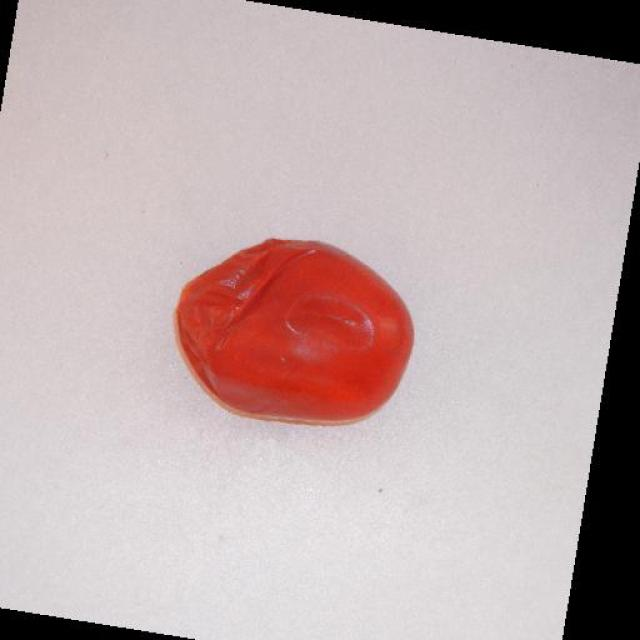Stale_tomato: (186, 213, 414, 442)
